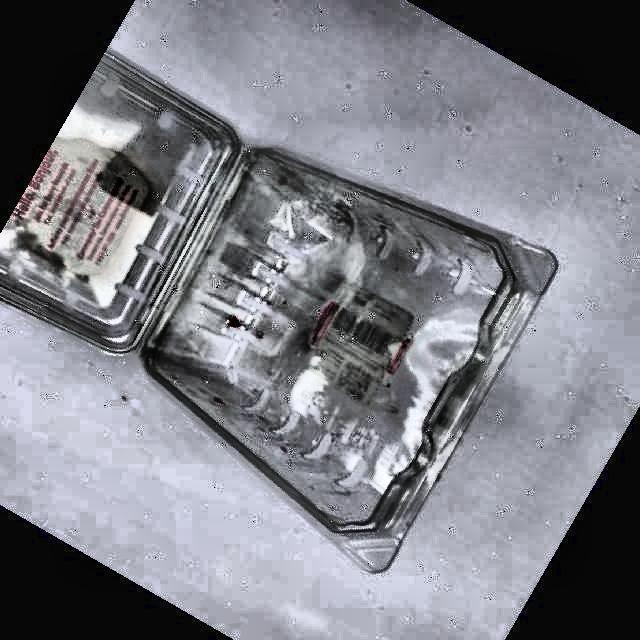plastic: (0, 55, 556, 571)
